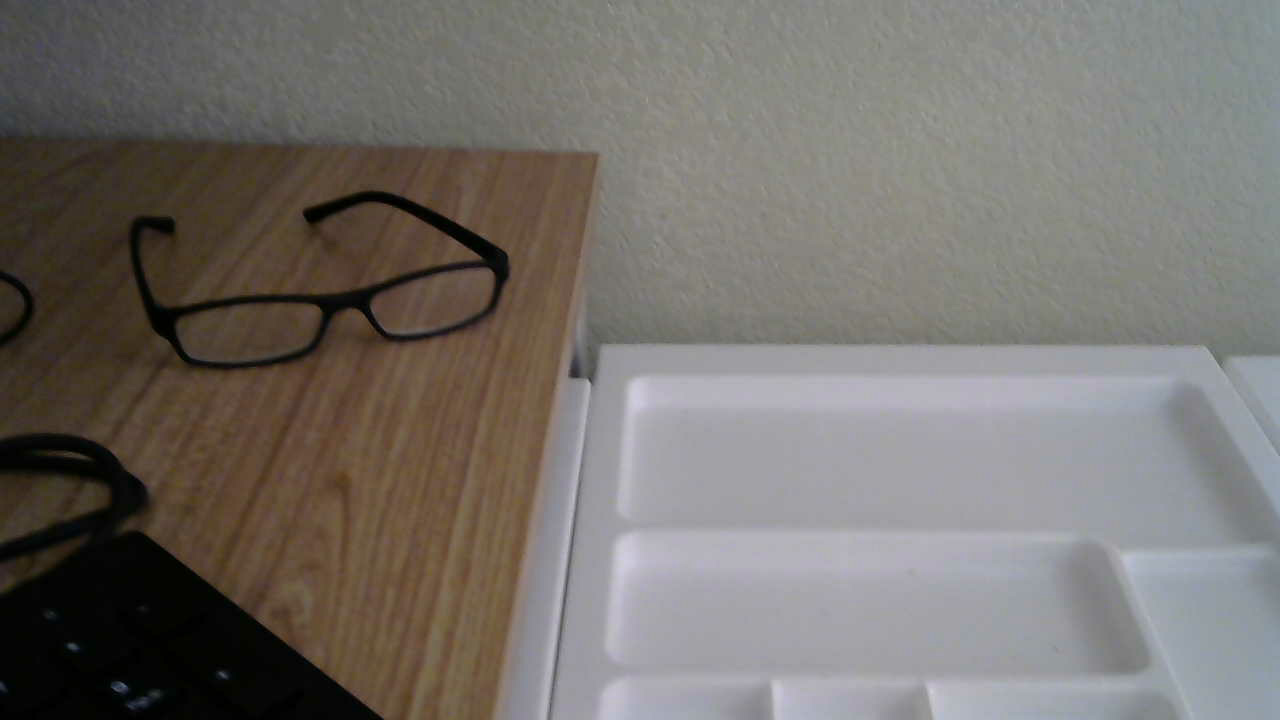Glasses: (116, 226, 536, 368)
